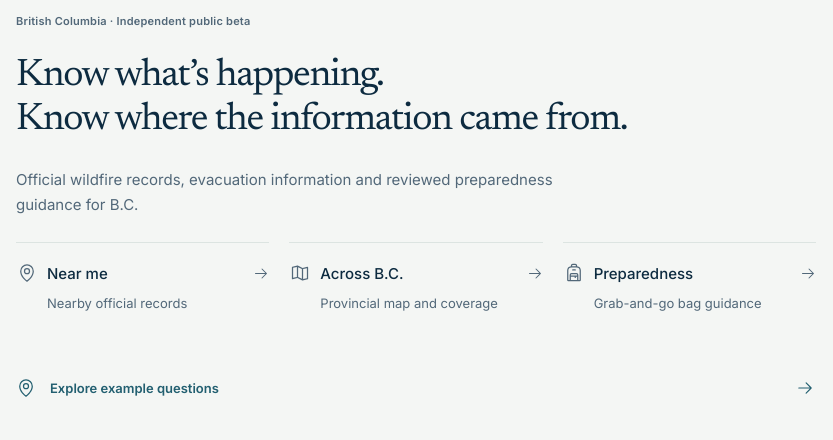
Scenario: AskStartPanel › rejects malformed loaded catalogues instead of presenting a non-canonical count
This screenshot has width=833, height=440.
Click the button "Explore example questions" at (134, 388), box x1=16 y1=361 x2=816 y2=415
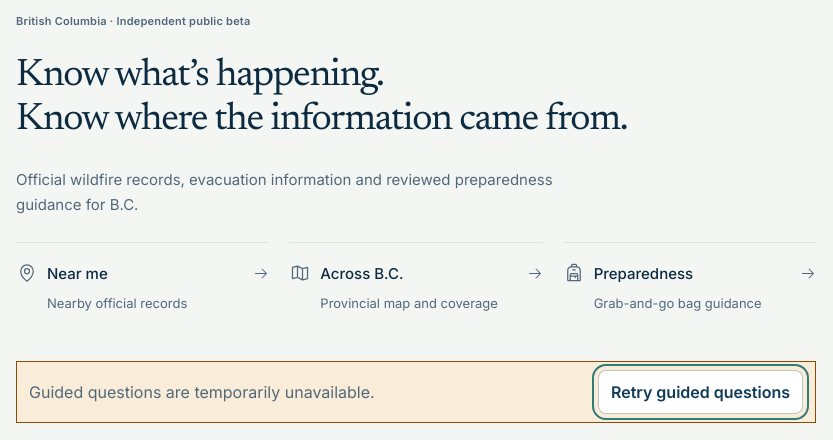
expect the message named "Guided questions status" shows "temporarily unavailable": met, box x1=29 y1=382 x2=375 y2=402
